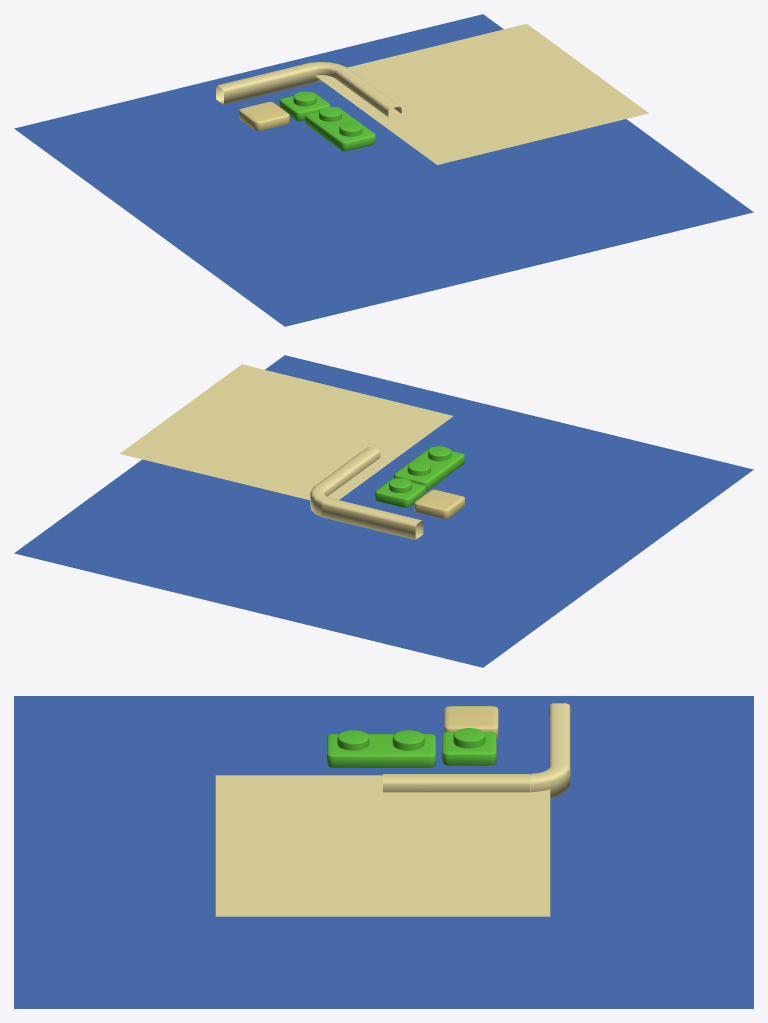
Rendered from ColorJamBlock_V1.0.fbx.
3 renders of one model, top to bottom at view 1: azimuth 30°, elevation 25°; view 2: azimuth 150°, elevation 25°; view 3: azimuth 270°, elevation 25°, orthographic. The views are drawn at different scales.
Visible parts, largest first — view 1: BaseBlue, GroundPlane, edgeCurve.003, DoubleBlock.001, BordersSides, Cube.010, TiledColorBase; view 2: BaseBlue, GroundPlane, edgeCurve.003, DoubleBlock.001, BordersSides, Cube.010, TiledColorBase; view 3: BaseBlue, GroundPlane, DoubleBlock.001, BordersSides, TiledColorBase, edgeCurve.003, Cube.010, BordersCurve, TiledColoredTop.
Part boxes in pixels (left/top/right/bottom): BaseBlue: left=14, top=14, right=753, bottom=326; GroundPlane: left=315, top=24, right=648, bottom=164; edgeCurve.003: left=216, top=62, right=317, bottom=104; DoubleBlock.001: left=305, top=107, right=375, bottom=151; BordersSides: left=334, top=67, right=401, bottom=116; Cube.010: left=239, top=102, right=289, bottom=131; TiledColorBase: left=279, top=91, right=330, bottom=121; BaseBlue: left=14, top=355, right=753, bottom=667; GroundPlane: left=120, top=364, right=453, bottom=500; edgeCurve.003: left=322, top=497, right=423, bottom=539; DoubleBlock.001: left=394, top=446, right=464, bottom=490; BordersSides: left=314, top=447, right=380, bottom=496; Cube.010: left=414, top=489, right=464, bottom=518; TiledColorBase: left=375, top=478, right=425, bottom=507; BaseBlue: left=14, top=696, right=753, bottom=1008; GroundPlane: left=215, top=775, right=550, bottom=916; DoubleBlock.001: left=327, top=730, right=435, bottom=767; BordersSides: left=383, top=774, right=530, bottom=792; TiledColorBase: left=442, top=731, right=496, bottom=765; edgeCurve.003: left=549, top=703, right=570, bottom=768; Cube.010: left=444, top=706, right=498, bottom=738; BordersCurve: left=530, top=765, right=570, bottom=798; TiledColoredTop: left=453, top=728, right=485, bottom=748.
Bounding box in the file's own units: 3031 × 391 × 3031.
